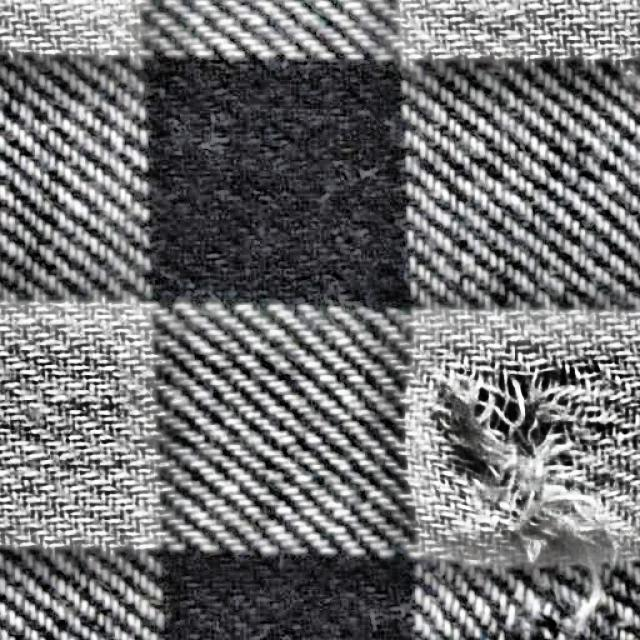Stitch: (432, 352, 638, 638)
